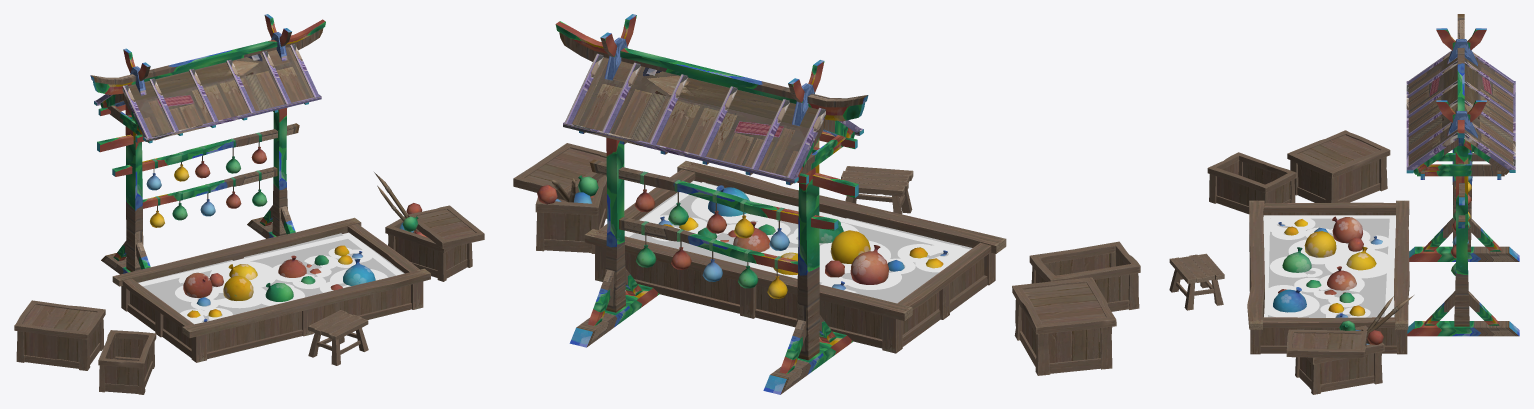
File: Homeworld_Exterior_Dq_Thing_Prop_Blueball_01_Lod0.fbx
The picture shows the model from 3 angles, left to right: view 1: azimuth 30°, elevation 25°; view 2: azimuth 150°, elevation 25°; view 3: azimuth 270°, elevation 25°; orthographic projection. The views are drawn at different scales.
Visible parts, largest first — view 1: Area_Dq_Prop_Common_BrickBreaker_04_Lod0(Clone), Area_Dq_Prop_Common_BrickBreaker_11_Vo(Clone), Area_Dq_Prop_Common_BrickBreaker_13_Vo(Clone), Water_Plane_01, Area_Dq_Prop_Common_BrickBreaker_12_Vo(Clone), Area_Dq_Prop_Common_BrickBreaker_22_Vo(Clone), Area_Dq_Prop_Common_BrickBreaker_15_Vo(Clone), Area_Dq_Prop_Common_BrickBreaker_06_Vo(Clone), Water_Plane_02, Area_Dq_Prop_Common_BrickBreaker_07_Vo(Clone), Area_Dq_Prop_Common_BrickBreaker_08_Vo(Clone), Area_Dq_Prop_Common_BrickBreaker_09_Vo(Clone); view 2: Area_Dq_Prop_Common_BrickBreaker_04_Lod0(Clone), Area_Dq_Prop_Common_BrickBreaker_13_Vo(Clone), Area_Dq_Prop_Common_BrickBreaker_11_Vo(Clone), Water_Plane_01, Area_Dq_Prop_Common_BrickBreaker_12_Vo(Clone), Area_Dq_Prop_Common_BrickBreaker_22_Vo(Clone), Area_Dq_Prop_Common_BrickBreaker_06_Vo(Clone), Area_Dq_Prop_Common_BrickBreaker_15_Vo(Clone), Water_Plane_02, Area_Dq_Prop_Common_BrickBreaker_07_Vo(Clone), Area_Dq_Prop_Common_BrickBreaker_08_Vo(Clone); view 3: Area_Dq_Prop_Common_BrickBreaker_04_Lod0(Clone), Area_Dq_Prop_Common_BrickBreaker_11_Vo(Clone), Area_Dq_Prop_Common_BrickBreaker_13_Vo(Clone), Water_Plane_01, Area_Dq_Prop_Common_BrickBreaker_12_Vo(Clone), Area_Dq_Prop_Common_BrickBreaker_15_Vo(Clone), Area_Dq_Prop_Common_BrickBreaker_06_Vo(Clone), Water_Plane_02, Area_Dq_Prop_Common_BrickBreaker_07_Vo(Clone), Area_Dq_Prop_Common_BrickBreaker_08_Vo(Clone), Area_Dq_Prop_Common_BrickBreaker_09_Vo(Clone), Area_Dq_Prop_Common_BrickBreaker_05_Vo(Clone) (+2 smaller).
Part boxes in pixels (x1,y1,x2,y2): Area_Dq_Prop_Common_BrickBreaker_04_Lod0(Clone): (90, 14, 430, 362); Area_Dq_Prop_Common_BrickBreaker_11_Vo(Clone): (374, 172, 484, 281); Area_Dq_Prop_Common_BrickBreaker_13_Vo(Clone): (14, 300, 105, 370); Water_Plane_01: (175, 248, 387, 324); Area_Dq_Prop_Common_BrickBreaker_12_Vo(Clone): (98, 330, 156, 394); Area_Dq_Prop_Common_BrickBreaker_22_Vo(Clone): (146, 142, 267, 227); Area_Dq_Prop_Common_BrickBreaker_15_Vo(Clone): (308, 310, 368, 365); Area_Dq_Prop_Common_BrickBreaker_06_Vo(Clone): (183, 272, 253, 306); Water_Plane_02: (138, 232, 403, 286); Area_Dq_Prop_Common_BrickBreaker_07_Vo(Clone): (278, 255, 328, 284); Area_Dq_Prop_Common_BrickBreaker_08_Vo(Clone): (330, 259, 375, 290); Area_Dq_Prop_Common_BrickBreaker_09_Vo(Clone): (265, 283, 293, 301); Area_Dq_Prop_Common_BrickBreaker_04_Lod0(Clone): (555, 14, 1006, 394); Area_Dq_Prop_Common_BrickBreaker_13_Vo(Clone): (1012, 277, 1116, 375); Area_Dq_Prop_Common_BrickBreaker_11_Vo(Clone): (513, 143, 607, 253); Water_Plane_01: (647, 193, 967, 292); Area_Dq_Prop_Common_BrickBreaker_12_Vo(Clone): (1029, 241, 1140, 311); Area_Dq_Prop_Common_BrickBreaker_22_Vo(Clone): (634, 184, 789, 298); Area_Dq_Prop_Common_BrickBreaker_06_Vo(Clone): (825, 230, 904, 290); Area_Dq_Prop_Common_BrickBreaker_15_Vo(Clone): (841, 166, 913, 214); Water_Plane_02: (624, 180, 970, 251); Area_Dq_Prop_Common_BrickBreaker_07_Vo(Clone): (697, 221, 775, 252); Area_Dq_Prop_Common_BrickBreaker_08_Vo(Clone): (708, 185, 749, 216); Area_Dq_Prop_Common_BrickBreaker_04_Lod0(Clone): (1247, 14, 1519, 354); Area_Dq_Prop_Common_BrickBreaker_11_Vo(Clone): (1286, 295, 1413, 394); Area_Dq_Prop_Common_BrickBreaker_13_Vo(Clone): (1287, 130, 1390, 202); Water_Plane_01: (1263, 217, 1394, 317); Area_Dq_Prop_Common_BrickBreaker_12_Vo(Clone): (1207, 152, 1296, 214); Area_Dq_Prop_Common_BrickBreaker_15_Vo(Clone): (1169, 253, 1224, 310); Area_Dq_Prop_Common_BrickBreaker_06_Vo(Clone): (1304, 216, 1382, 257); Water_Plane_02: (1263, 215, 1395, 317); Area_Dq_Prop_Common_BrickBreaker_07_Vo(Clone): (1306, 266, 1356, 302); Area_Dq_Prop_Common_BrickBreaker_08_Vo(Clone): (1273, 287, 1306, 312); Area_Dq_Prop_Common_BrickBreaker_09_Vo(Clone): (1282, 247, 1311, 272); Area_Dq_Prop_Common_BrickBreaker_05_Vo(Clone): (1346, 246, 1376, 270).
Bounding box in the file's own units: 6.51 × 3.09 × 4.24.
6 materials, 3 textured.
